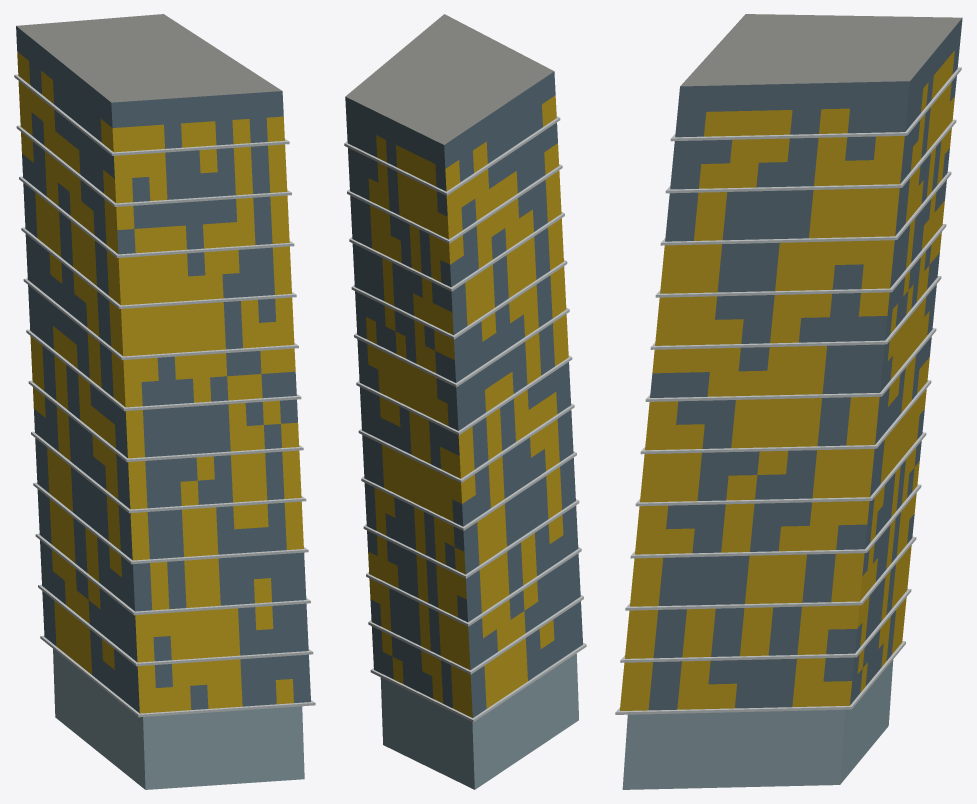
Rendered from veer_towers_east_w52134834.glb.
3 views of the same model, side by side, from view 1: azimuth 30°, elevation 25°; view 2: azimuth 150°, elevation 25°; view 3: azimuth 270°, elevation 25° (orthographic). The views are drawn at different scales.
Visible parts, largest first — view 1: Tower_w52134834; view 2: Tower_w52134834; view 3: Tower_w52134834.
Boxes of the visible parts, x1,y1,x2,y2 form: Tower_w52134834: [14, 14, 315, 789]; Tower_w52134834: [344, 14, 586, 789]; Tower_w52134834: [615, 14, 962, 789].
Size of the model in its own units: 31.1 by 136 by 60.83.
